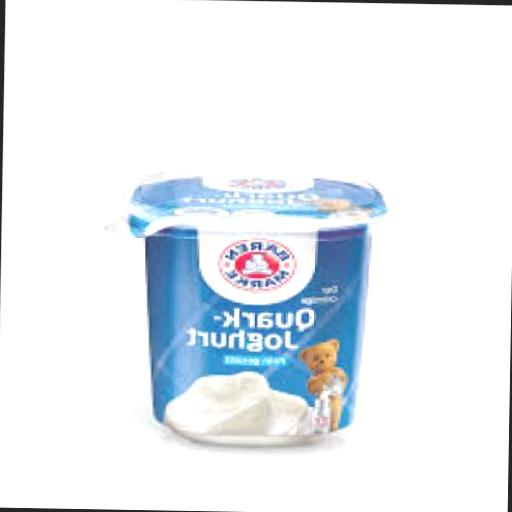plastic: (102, 162, 396, 447), (106, 161, 396, 244)
